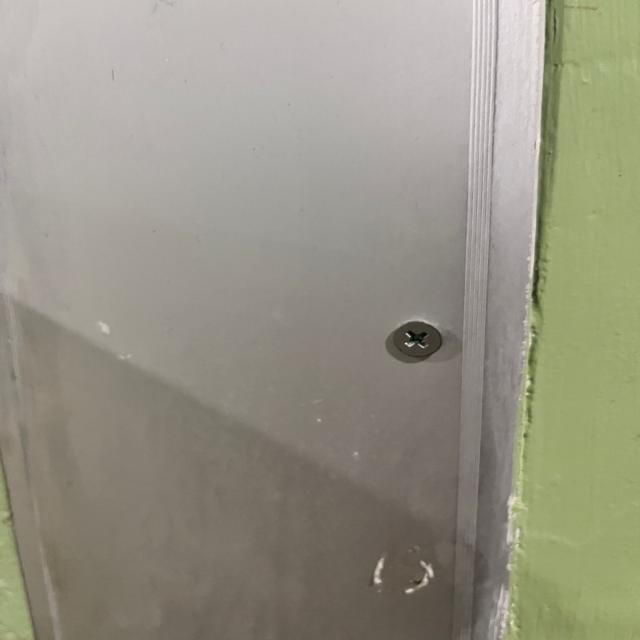phillips: (392, 320, 443, 358)
